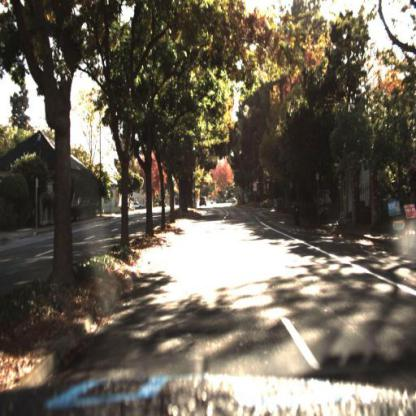car: (128, 200, 146, 216), (132, 199, 147, 213), (199, 195, 208, 211), (225, 196, 239, 205)
trafficLight-Red: (228, 183, 236, 197)
